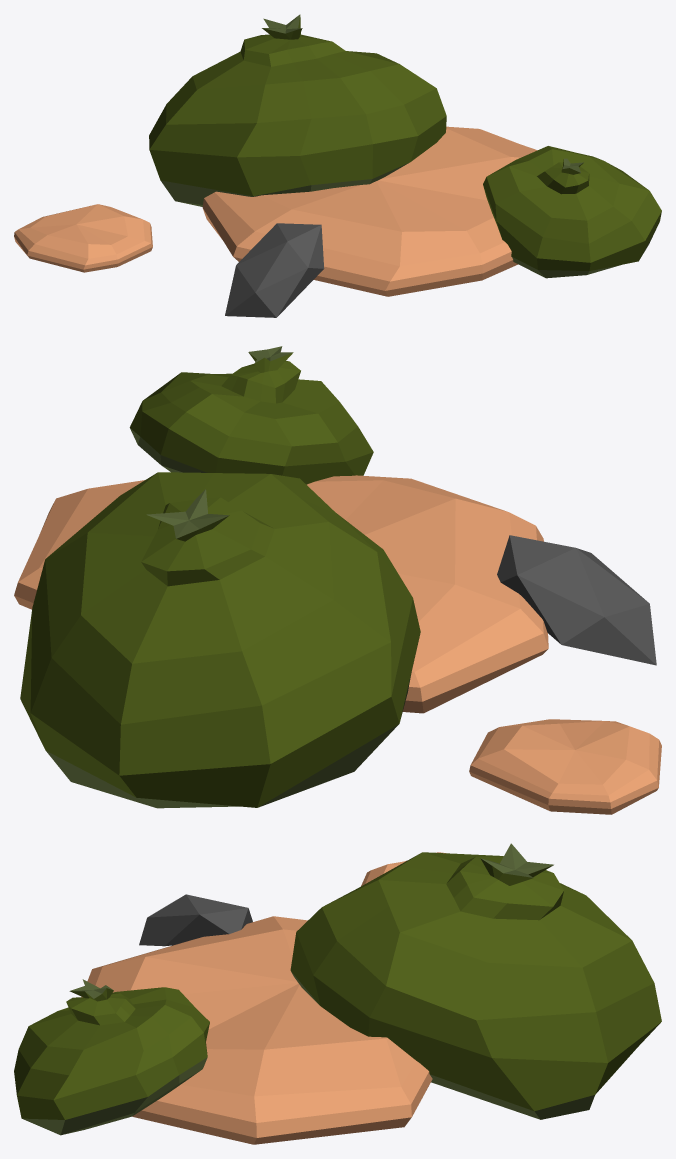
Rendered from SSJ_dirtyFloor2-B.fbx.
3 renders of one model, top to bottom at view 1: azimuth 30°, elevation 25°; view 2: azimuth 150°, elevation 25°; view 3: azimuth 270°, elevation 25°, orthographic. The views are drawn at different scales.
Visible parts, largest first — view 1: Trash.003; view 2: Trash.003; view 3: Trash.003.
Boxes of the visible parts, x1,y1,x2,y2 form: Trash.003: (14,14,661,317); Trash.003: (14,346,661,814); Trash.003: (14,843,661,1144).
Bounding box in the file's own units: 402 × 143 × 371.
